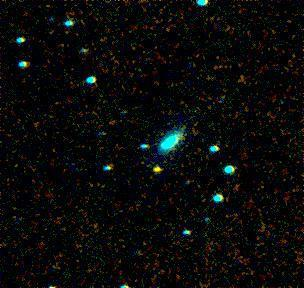star: (141, 154, 171, 184)
